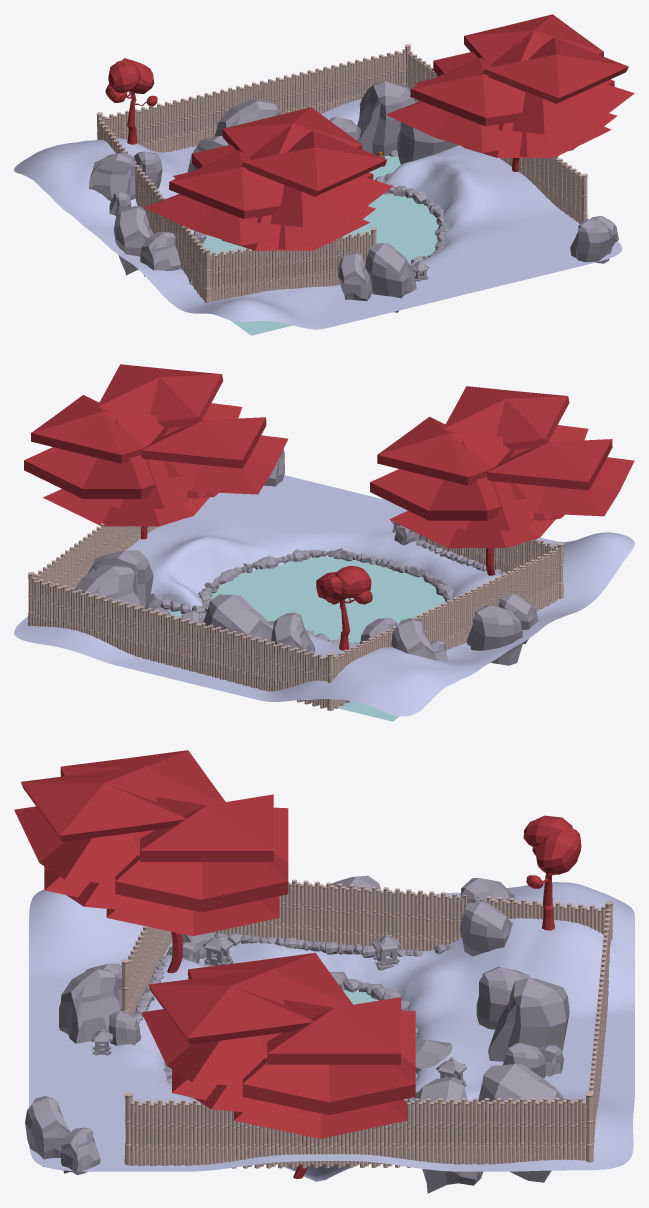
File: level2_test02 (1).fbx
3 views of the same model, one above another, from view 1: azimuth 30°, elevation 25°; view 2: azimuth 150°, elevation 25°; view 3: azimuth 270°, elevation 25° (orthographic). The views are drawn at different scales.
Visible parts, largest first — view 1: landscape, fene, tree02, tree01, big rock, water, tree03, rock; view 2: landscape, tree01, tree02, fene, big rock, water, rock, tree03; view 3: landscape, fene, tree01, tree02, big rock, rock, tree03, lanterns.
Boxes of the visible parts, bbox=[...] form: landscape: bbox=[14, 99, 622, 329]; fene: bbox=[96, 44, 587, 302]; tree02: bbox=[385, 14, 634, 171]; tree01: bbox=[144, 107, 392, 250]; big rock: bbox=[89, 81, 618, 312]; water: bbox=[202, 155, 438, 335]; tree03: bbox=[105, 58, 157, 144]; rock: bbox=[189, 149, 449, 286]; landscape: bbox=[14, 475, 634, 716]; tree01: bbox=[370, 386, 634, 575]; tree02: bbox=[24, 364, 287, 539]; fene: bbox=[28, 523, 563, 710]; big rock: bbox=[74, 449, 538, 665]; water: bbox=[166, 557, 446, 721]; rock: bbox=[148, 540, 536, 643]; tree03: bbox=[316, 566, 372, 650]; landscape: bbox=[29, 882, 634, 1181]; fene: bbox=[121, 879, 613, 1168]; tree01: bbox=[14, 750, 288, 973]; tree02: bbox=[141, 953, 415, 1178]; big rock: bbox=[25, 875, 569, 1193]; rock: bbox=[132, 933, 468, 1102]; tree03: bbox=[523, 815, 581, 930]; lanterns: bbox=[91, 933, 466, 1087].
Size of the model in its own units: 2422 by 1125 by 2048.
